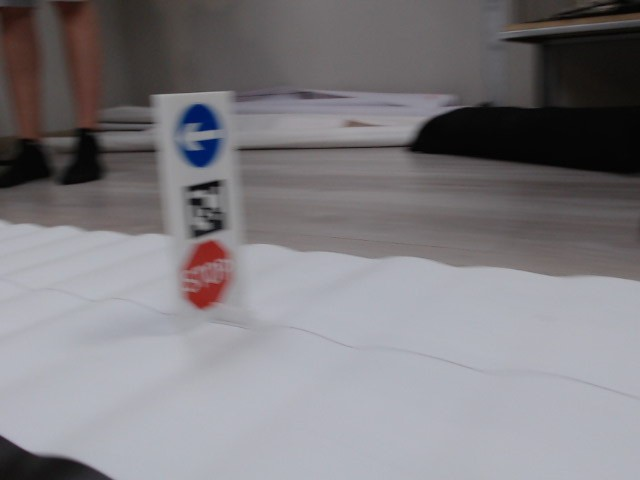Stop: (183, 241, 230, 306)
